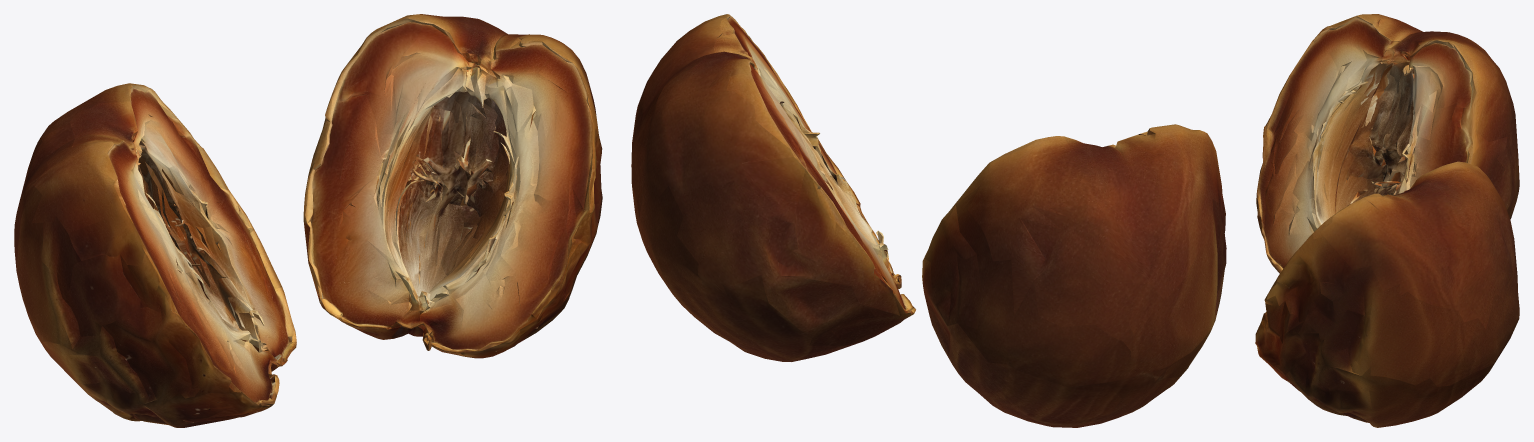
File: dates.original.glb
3 views of the same model, side by side, from view 1: azimuth 30°, elevation 25°; view 2: azimuth 150°, elevation 25°; view 3: azimuth 270°, elevation 25° (orthographic). The views are drawn at different scales.
Parts seen in each view (by area): view 1: output_unwrapped; view 2: output_unwrapped; view 3: output_unwrapped.
Boxes of the visible parts, left/top/right/bottom form: output_unwrapped: left=14, top=14, right=602, bottom=427; output_unwrapped: left=631, top=14, right=1226, bottom=427; output_unwrapped: left=1255, top=14, right=1519, bottom=427.
Bounding box in the file's own units: 1.9 × 0.9818 × 0.9309.
Materials: 1 (1 with a texture image).
